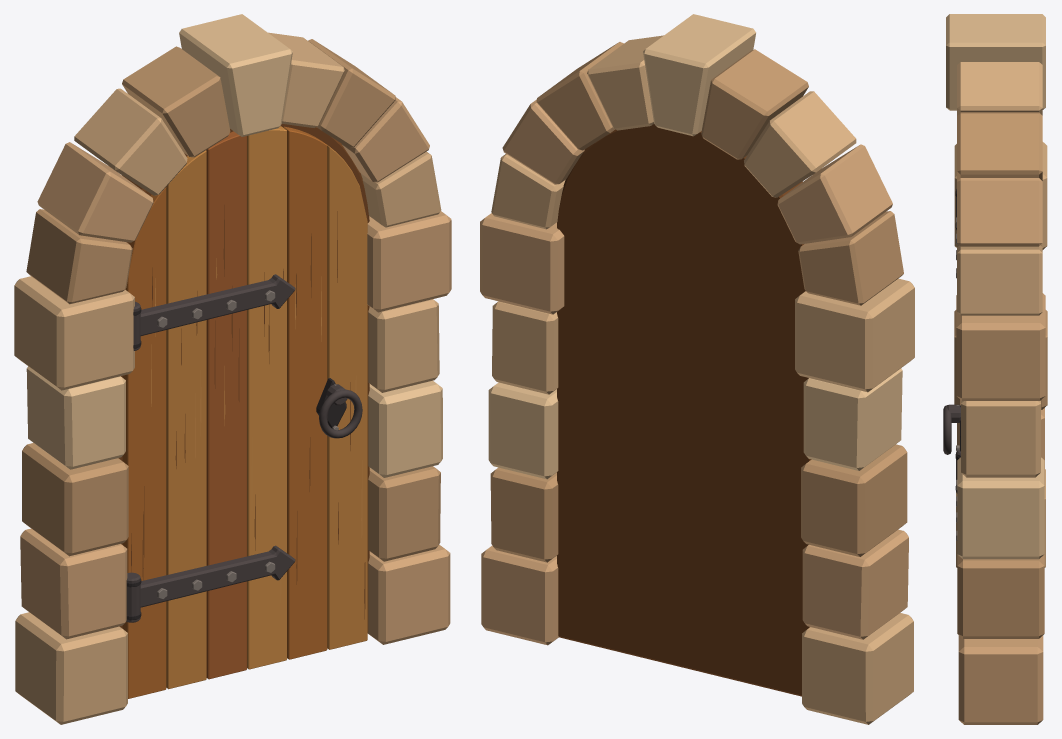
The model's file is wsc-module-028-town-arched-timber-doorway.glb.
3 renders of one model, left to right at view 1: azimuth 30°, elevation 25°; view 2: azimuth 150°, elevation 25°; view 3: azimuth 270°, elevation 25°, orthographic. The views are drawn at different scales.
Parts seen in each view (by area): view 1: stone0, oak1, oak0, stone1, stone2, stone3, oak2, oak3, iron, edge, nail, iron_dark (+1 smaller); view 2: edge, stone0, stone1, stone2, stone3; view 3: stone1, stone0, stone2, stone3, iron.
Part boxes in pixels (x1=…): stone0: x1=14, y1=32, x2=441, y2=724; oak1: x1=166, y1=145, x2=367, y2=689; oak0: x1=122, y1=126, x2=327, y2=698; stone1: x1=20, y1=97, x2=451, y2=644; stone2: x1=22, y1=39, x2=440, y2=561; stone3: x1=26, y1=14, x2=442, y2=477; oak2: x1=206, y1=131, x2=246, y2=679; oak3: x1=247, y1=126, x2=286, y2=669; iron: x1=126, y1=274, x2=362, y2=622; edge: x1=118, y1=124, x2=369, y2=631; nail: x1=157, y1=290, x2=338, y2=599; iron_dark: x1=126, y1=307, x2=346, y2=620; edge: x1=557, y1=124, x2=811, y2=696; stone0: x1=491, y1=35, x2=914, y2=724; stone1: x1=480, y1=99, x2=908, y2=645; stone2: x1=490, y1=42, x2=907, y2=562; stone3: x1=488, y1=14, x2=902, y2=479; stone1: x1=956, y1=178, x2=1045, y2=724; stone0: x1=954, y1=62, x2=1047, y2=567; stone2: x1=954, y1=112, x2=1047, y2=638; stone3: x1=946, y1=14, x2=1045, y2=559; iron: x1=943, y1=189, x2=960, y2=493.
Bounding box in the file's own units: 1.68 × 2.54 × 0.3963.
